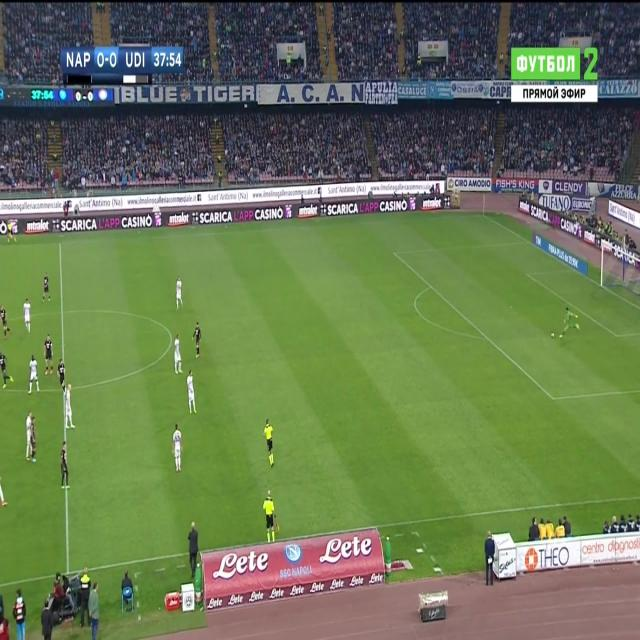Ball: (550, 331, 555, 340)
Goalkeeper: (559, 304, 582, 344)
Player: (24, 353, 41, 399), (171, 424, 184, 475), (0, 296, 13, 346), (185, 367, 198, 417), (0, 349, 15, 391), (60, 441, 72, 493), (42, 332, 55, 379), (63, 384, 75, 433), (21, 296, 34, 335), (24, 408, 32, 469), (29, 414, 38, 466), (173, 332, 184, 374), (192, 320, 202, 361), (40, 271, 52, 304), (58, 356, 66, 391), (176, 274, 183, 310)
Referee: (262, 489, 280, 544), (262, 415, 277, 473), (5, 217, 17, 248)
